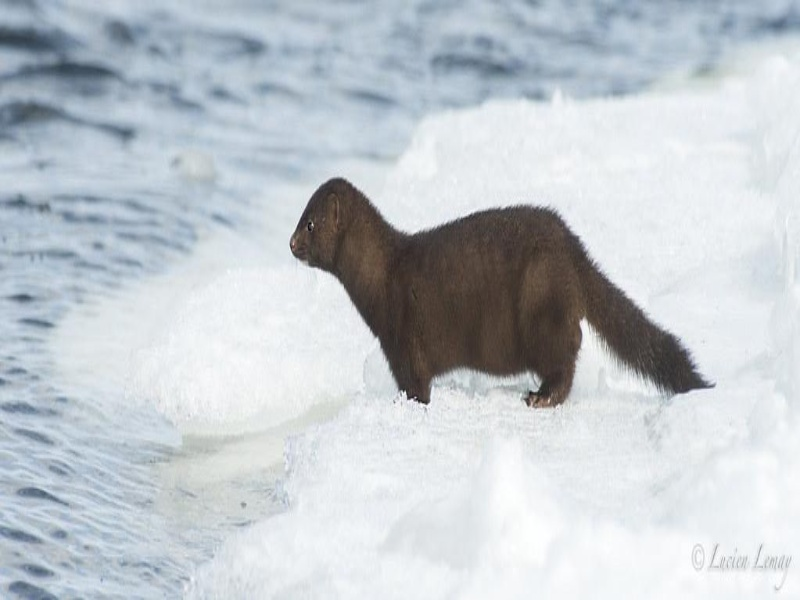minkish: (285, 173, 717, 411)
